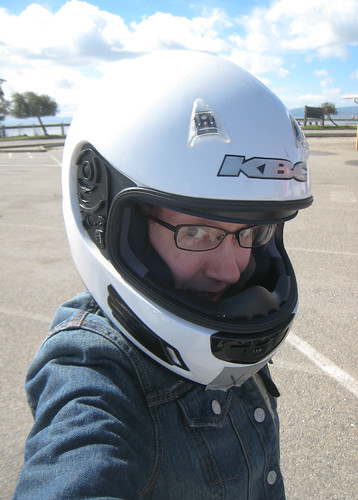helmet: (49, 43, 317, 396)
